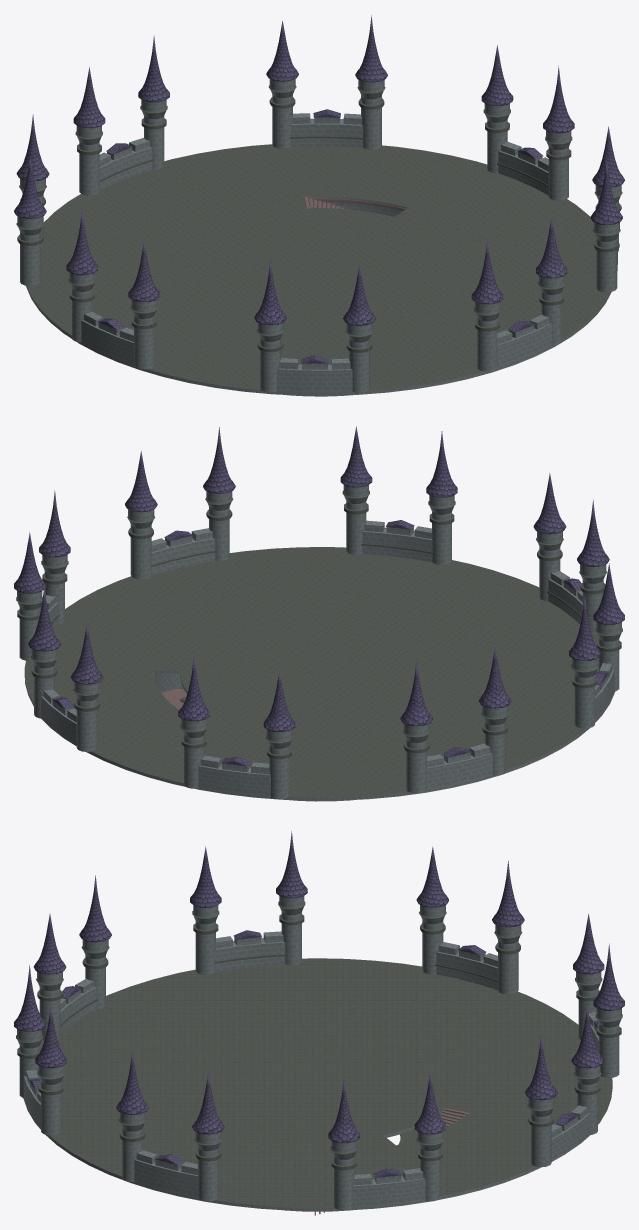
File: towerTopFloor.fbx
The picture shows the model from 3 angles, top to bottom: view 1: azimuth 30°, elevation 25°; view 2: azimuth 150°, elevation 25°; view 3: azimuth 270°, elevation 25°; orthographic projection.
Visible parts, largest first — view 1: TowerTopFloorFinal; view 2: TowerTopFloorFinal; view 3: TowerTopFloorFinal.
Part boxes in pixels (<box>): TowerTopFloorFinal: <box>14,15,624,396</box>; TowerTopFloorFinal: <box>14,426,624,801</box>; TowerTopFloorFinal: <box>14,831,624,1215</box>.
Bounding box in the file's own units: 8786 × 3046 × 8790.
